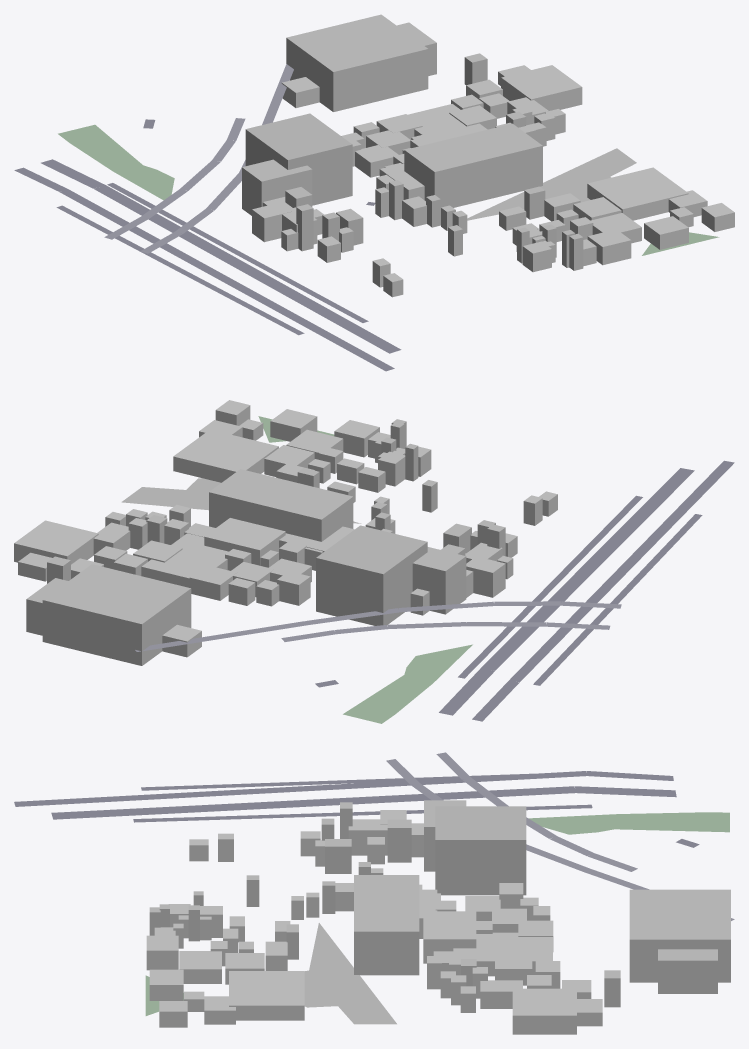
The model's file is 104_100_mid.glb.
3 views of the same model, one above another, from view 1: azimuth 30°, elevation 25°; view 2: azimuth 150°, elevation 25°; view 3: azimuth 270°, elevation 25° (orthographic). The views are drawn at different scales.
Size of the model in its own units: 540 by 52.32 by 617.
